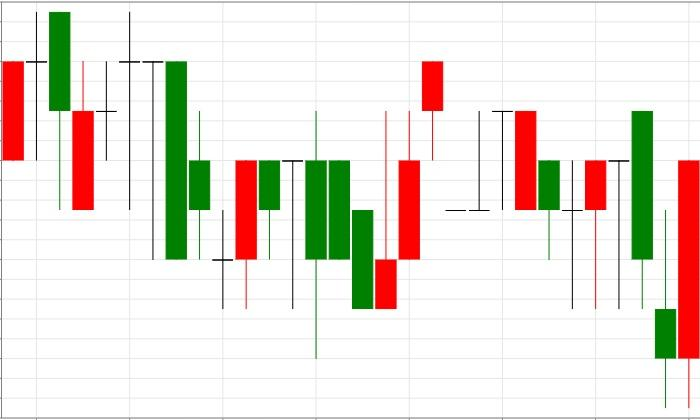three_white_soldiers_rise: (259, 61, 444, 358)
